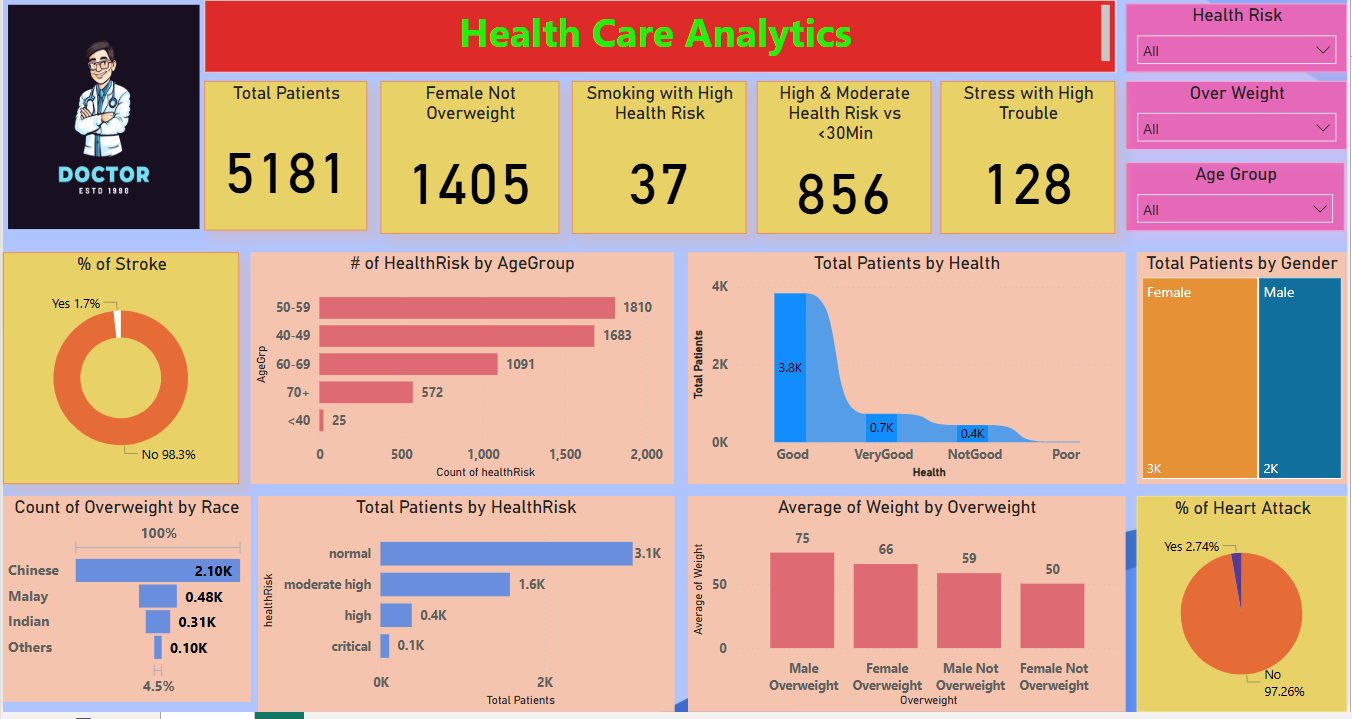

Layout of this report page (visuals, bound fields, positions):
{"tool":"powerbi","page":{"name":"Page 1","canvas":[1280,720],"ordinal":0},"visuals":[{"type":"image","box":[0,41.2,192.1,223.7],"z":0},{"type":"card","title":"Total Patients","fields":{"Values":["ALL MEASURES.Total Patients"]},"box":[192.1,119,155.1,142.7],"z":1000},{"type":"card","title":"Female Not Overweight","fields":{"Values":["ALL MEASURES.Female Not Overweight"]},"box":[359.5,119,170.2,145.5],"z":2000},{"type":"card","title":"Smoking with High Health Risk","fields":{"Values":["CountNonNull(HealthCare_CLEAN_DATA.Smoking)"]},"box":[542,119,166,145.5],"z":3000},{"type":"card","title":"High & Moderate Health Risk vs <30Min","fields":{"Values":["CountNonNull(HealthCare_CLEAN_DATA.Exercise)"]},"box":[717.7,119.4,166,145.5],"z":4000},{"type":"textbox","box":[192.1,41.2,867.2,70],"z":5000},{"type":"slicer","title":"Health Risk","fields":{"Values":["HealthCare_CLEAN_DATA.healthRisk"]},"box":[1069,45.3,211.3,65.9],"z":6000},{"type":"slicer","title":"Age Group","fields":{"Values":["HealthCare_CLEAN_DATA.AgeGrp"]},"box":[1069,196.2,208.6,65.9],"z":7000},{"type":"slicer","title":"Over Weight","fields":{"Values":["HealthCare_CLEAN_DATA.Overweight"]},"box":[1069,119.4,211.3,65.9],"z":8000},{"type":"donutChart","title":"% of Stroke","fields":{"Category":["HealthCare_CLEAN_DATA.Stroke"],"Y":["ALL MEASURES.Total Patients"]},"box":[0,282.7,225,220.9],"z":9000},{"type":"barChart","title":"# of HealthRisk by AgeGroup","fields":{"Category":["HealthCare_CLEAN_DATA.AgeGrp"],"Y":["CountNonNull(HealthCare_CLEAN_DATA.healthRisk)"]},"box":[236,282.7,403.4,220.9],"z":10000},{"type":"ribbonChart","fields":{"Category":["HealthCare_CLEAN_DATA.Health"],"Y":["ALL MEASURES.Total Patients"]},"box":[651.8,282.7,417.2,220.9],"z":11000},{"type":"treemap","fields":{"Group":["HealthCare_CLEAN_DATA.Gender"],"Values":["ALL MEASURES.Total Patients"]},"box":[1079.9,282.7,200.3,220.9],"z":12000},{"type":"funnel","fields":{"Category":["HealthCare_CLEAN_DATA.Race"],"Y":["CountNonNull(HealthCare_CLEAN_DATA.Overweight)"]},"box":[0,514.6,236,196.2],"z":13000},{"type":"barChart","title":"Total Patients by  HealthRisk ","fields":{"Category":["HealthCare_CLEAN_DATA.healthRisk"],"Y":["ALL MEASURES.Total Patients"]},"box":[242.9,514.6,396.6,205.8],"z":14000},{"type":"columnChart","fields":{"Category":["HealthCare_CLEAN_DATA.Overweight"],"Y":["Avg(HealthCare_CLEAN_DATA.Weight)"]},"box":[651.8,514.6,417.2,205.8],"z":15000},{"type":"pieChart","title":"% of Heart Attack","fields":{"Y":["ALL MEASURES.Total Patients"],"Category":["HealthCare_CLEAN_DATA.HeartAttack"]},"box":[1079.9,514.6,200.3,205.8],"z":15001},{"type":"card","title":"Stress with High Trouble","fields":{"Values":["CountNonNull(HealthCare_CLEAN_DATA.Stress)"]},"box":[893.3,119.4,166,145.5],"z":15002}]}

Visuals, with their boxes on the page's 1280x720 design canvas (x1, y1, x2, y2). These are canvas units, not pixel positions in the 1352x719 screenshot, which may show the page scaled, cropped or inside an application window:
image: pyautogui.locateOnScreen(0, 41, 192, 265)
"Total Patients" card: pyautogui.locateOnScreen(192, 119, 347, 262)
"Female Not Overweight" card: pyautogui.locateOnScreen(360, 119, 530, 264)
"Smoking with High Health Risk" card: pyautogui.locateOnScreen(542, 119, 708, 264)
"High & Moderate Health Risk vs <30Min" card: pyautogui.locateOnScreen(718, 119, 884, 265)
textbox: pyautogui.locateOnScreen(192, 41, 1059, 111)
"Health Risk" slicer: pyautogui.locateOnScreen(1069, 45, 1280, 111)
"Age Group" slicer: pyautogui.locateOnScreen(1069, 196, 1278, 262)
"Over Weight" slicer: pyautogui.locateOnScreen(1069, 119, 1280, 185)
"% of Stroke" donutChart: pyautogui.locateOnScreen(0, 283, 225, 504)
"# of HealthRisk by AgeGroup" barChart: pyautogui.locateOnScreen(236, 283, 639, 504)
ribbonChart - HealthCare_CLEAN_DATA.Health x ALL MEASURES.Total Patients: pyautogui.locateOnScreen(652, 283, 1069, 504)
treemap - HealthCare_CLEAN_DATA.Gender x ALL MEASURES.Total Patients: pyautogui.locateOnScreen(1080, 283, 1280, 504)
funnel - HealthCare_CLEAN_DATA.Race x CountNonNull(HealthCare_CLEAN_DATA.Overweight): pyautogui.locateOnScreen(0, 515, 236, 711)
"Total Patients by  HealthRisk " barChart: pyautogui.locateOnScreen(243, 515, 640, 720)
columnChart - HealthCare_CLEAN_DATA.Overweight x Avg(HealthCare_CLEAN_DATA.Weight): pyautogui.locateOnScreen(652, 515, 1069, 720)
"% of Heart Attack" pieChart: pyautogui.locateOnScreen(1080, 515, 1280, 720)
"Stress with High Trouble" card: pyautogui.locateOnScreen(893, 119, 1059, 265)
